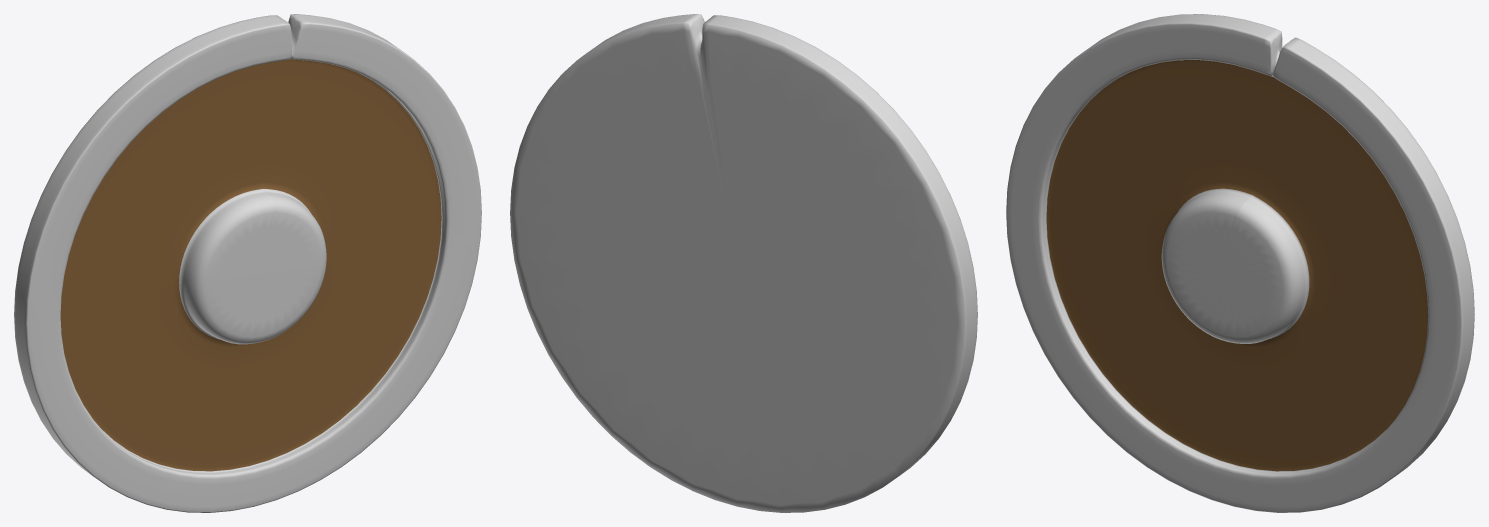
The model's file is Kalkan_1.fbx.
3 views of the same model, side by side, from view 1: azimuth 30°, elevation 25°; view 2: azimuth 150°, elevation 25°; view 3: azimuth 330°, elevation 25° (orthographic).
Parts seen in each view (by area): view 1: Cylinder.006; view 2: Cylinder.006; view 3: Cylinder.006.
Boxes of the visible parts, box(x1,y1,x2,y2) form: Cylinder.006: box(14, 14, 481, 512); Cylinder.006: box(510, 14, 977, 512); Cylinder.006: box(1006, 14, 1474, 512).
Size of the model in its own units: 108 by 108 by 9.16.
